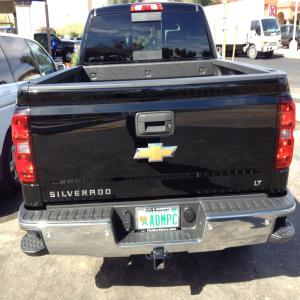Vehicle-registration-plate: (139, 209, 179, 230)
